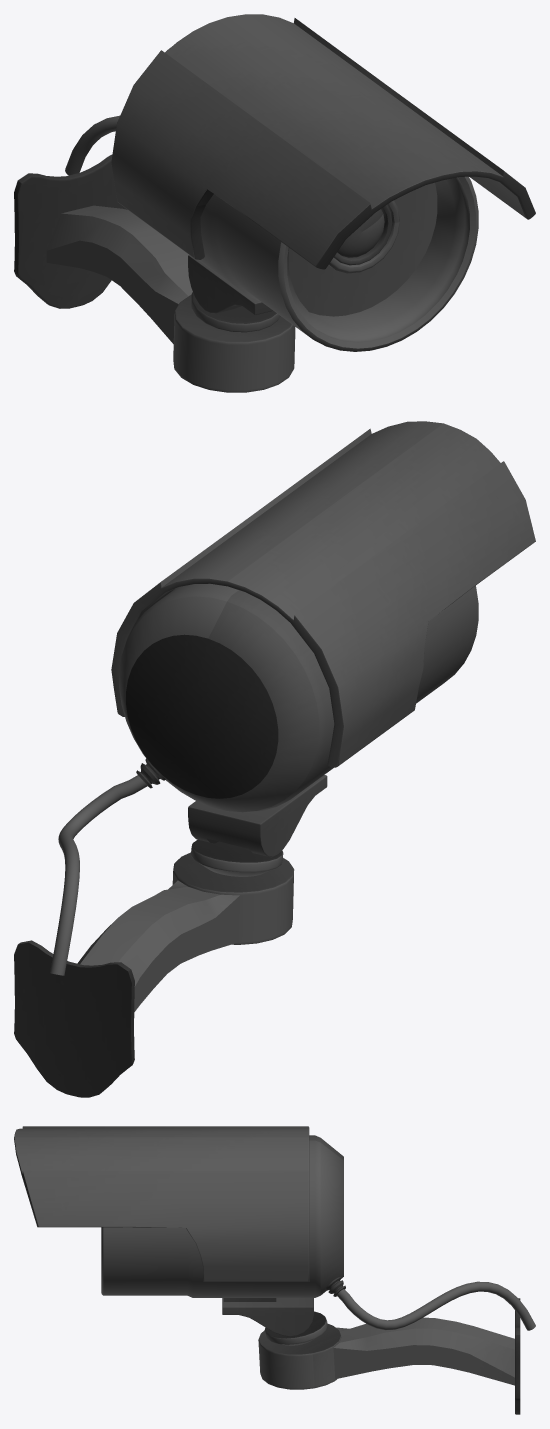
Rendered from camara.obj.
The picture shows the model from 3 angles, top to bottom: view 1: azimuth 30°, elevation 25°; view 2: azimuth 150°, elevation 25°; view 3: azimuth 270°, elevation 25°; orthographic projection. The views are drawn at different scales.
Parts seen in each view (by area): view 1: Camera; view 2: Camera; view 3: Camera.
Part boxes in pixels (<box>): Camera: <box>14,14,535,392</box>; Camera: <box>14,421,535,1097</box>; Camera: <box>14,1126,535,1414</box>.
Bounding box in the file's own units: 34.37 × 56.43 × 97.56.
1 material, 1 textured.
